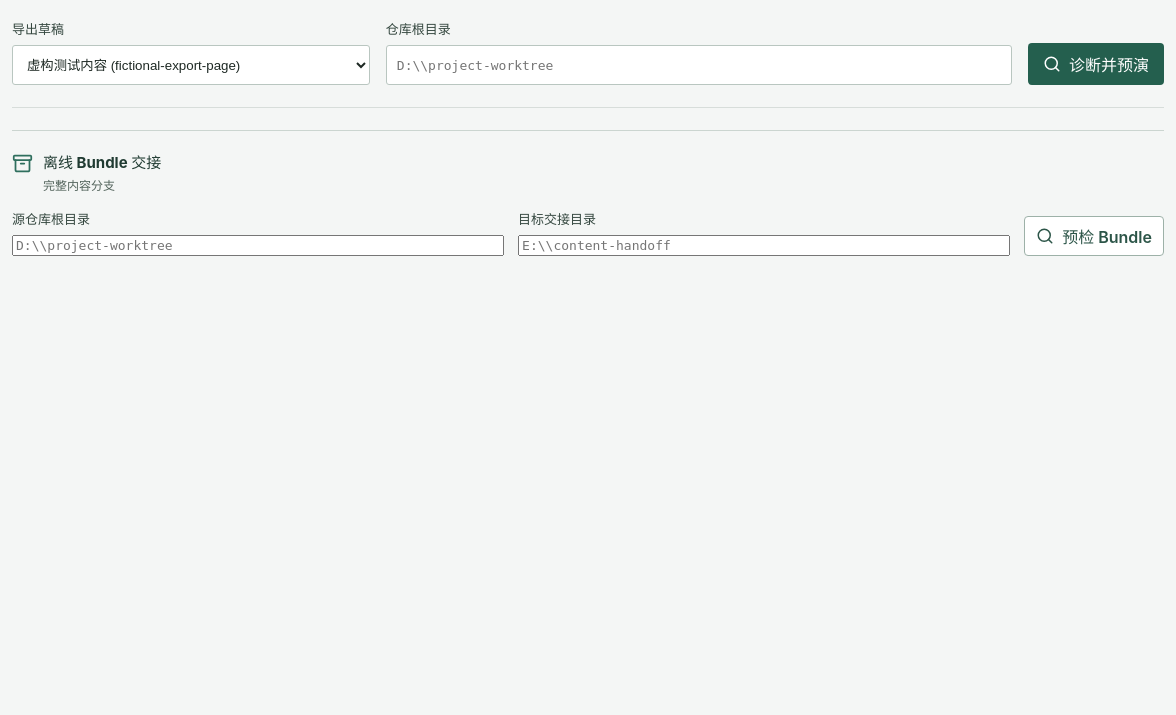
Test case: selects a draft and renders repository, target, Schema and Git dry-run output
Type "D:\\fictional-worktree" into the field labelled "仓库根目录".
click(699, 65); type("D:\\fictional-worktree")  # box [386,45,1012,85]
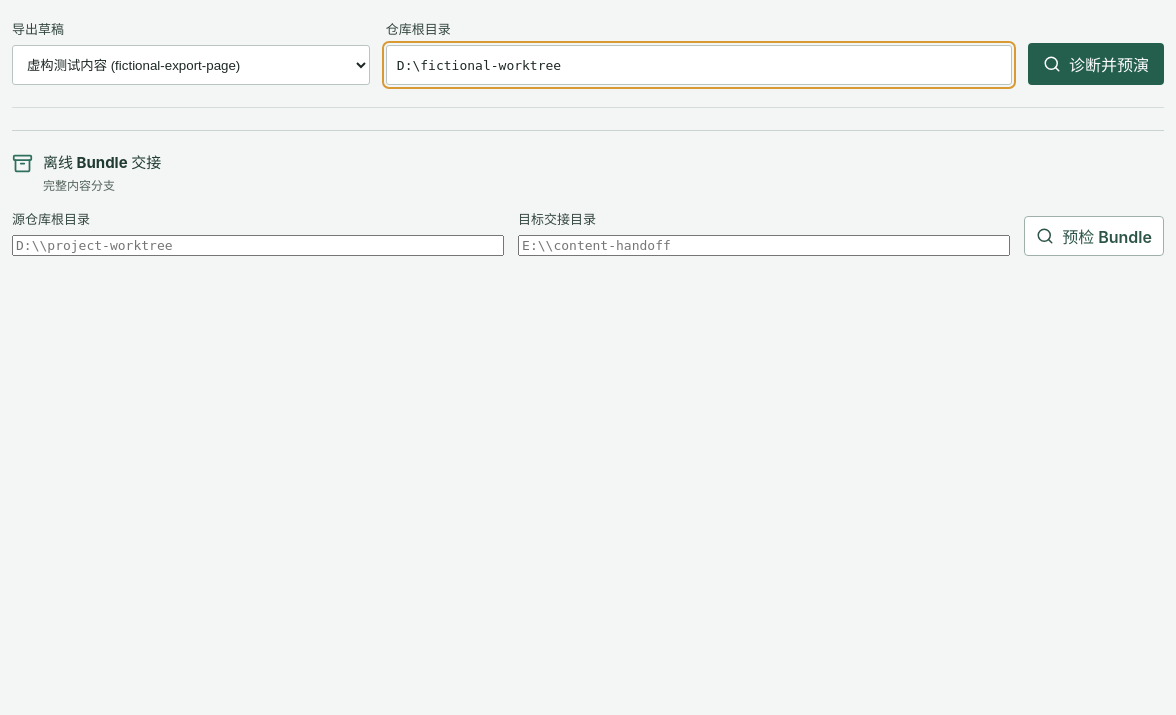
Click the button "诊断并预演".
click(1096, 64)  # box [1028,43,1164,85]
(page scrolled)
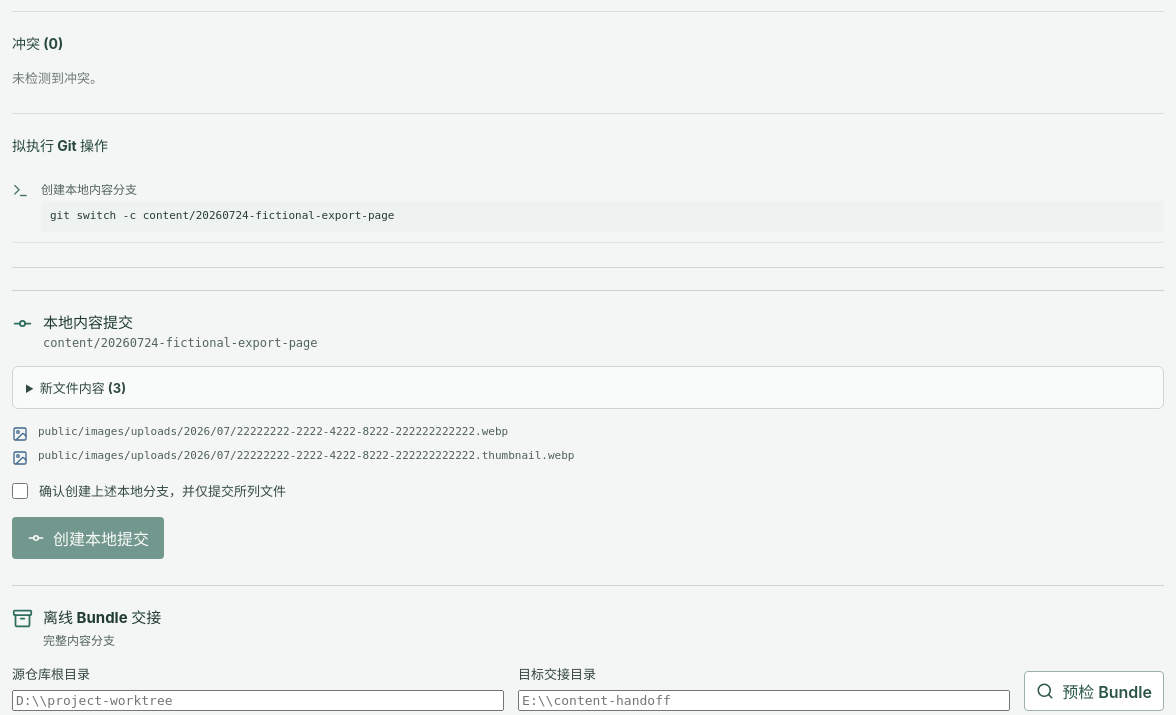
Expected: the heading "拟执行 Git 操作" is shown, [12,137,108,154]
Expected: the heading "本地内容提交" is shown, [43,313,133,332]
Expected: the button "创建本地提交" is disabled, [12,516,164,558]
Click the checkbox labelled "确认创建上述本地分支，并仅提交所列文件".
click(20, 491)  # box [12,483,28,499]
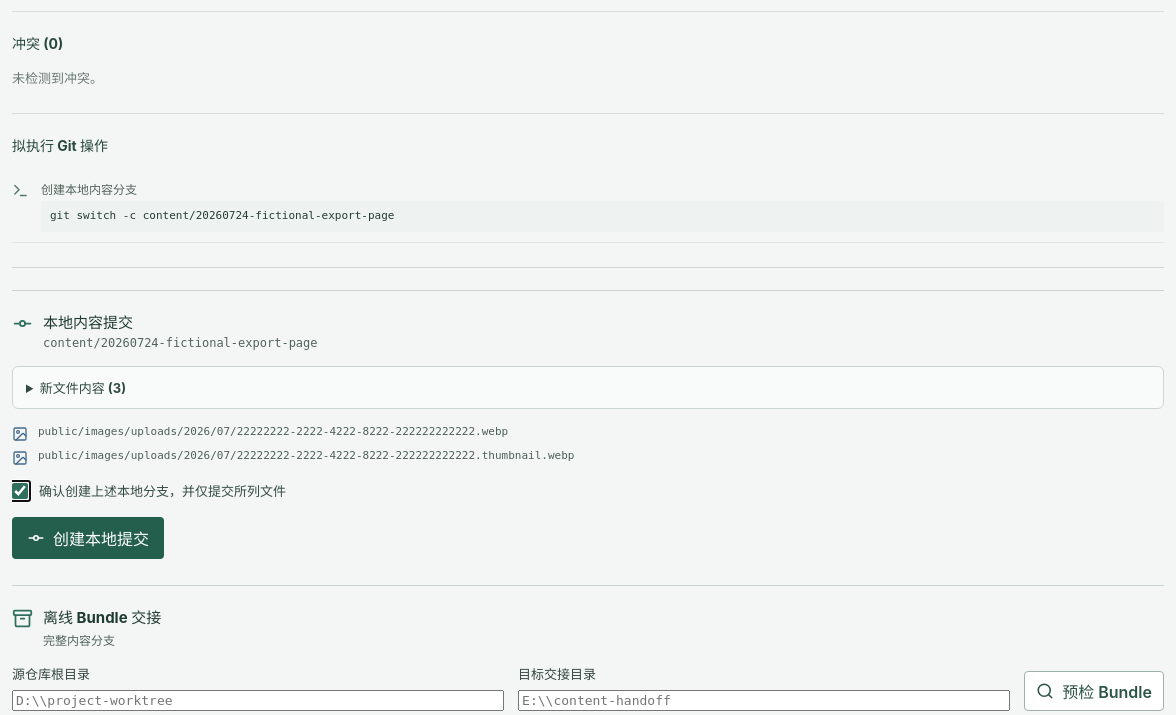
Click the button "创建本地提交".
click(88, 538)  # box [12,516,164,558]
(page scrolled)
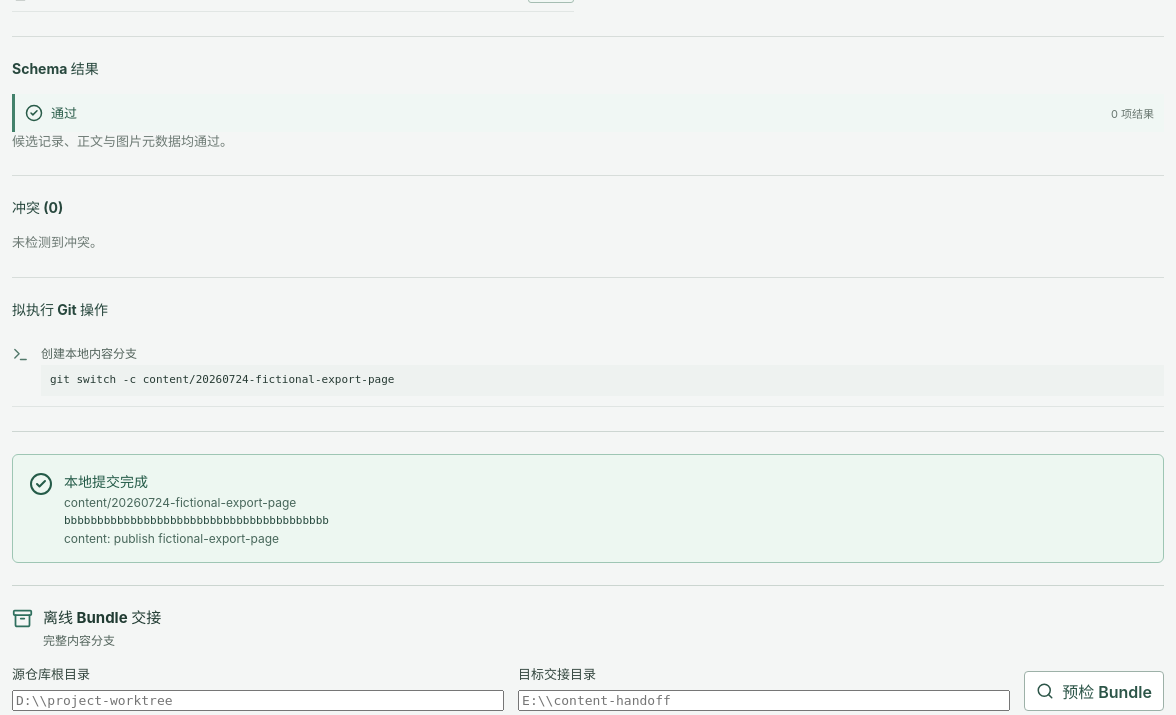
Expected: the text "本地提交完成" is shown, [64,473,148,490]
